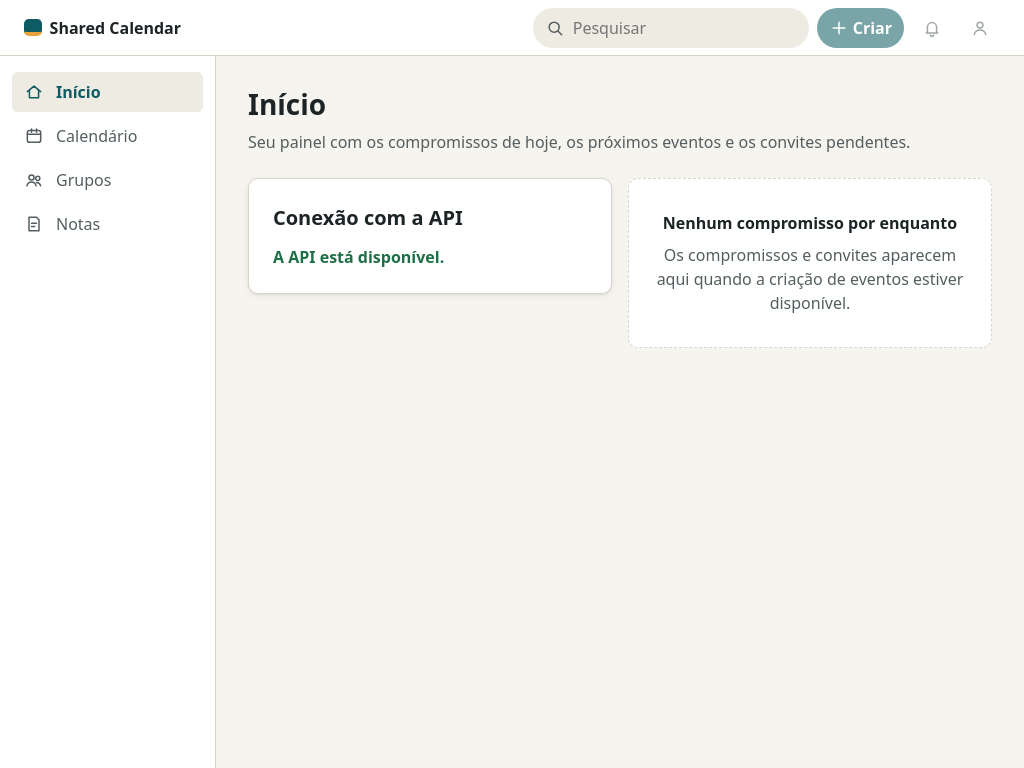
Test case: AppLayout › navega entre as seções pelo menu
Check: the heading "Início" is shown, box [248,85,326,123]
Click the link "Grupos".
click(68, 180)  # box [24,169,111,191]
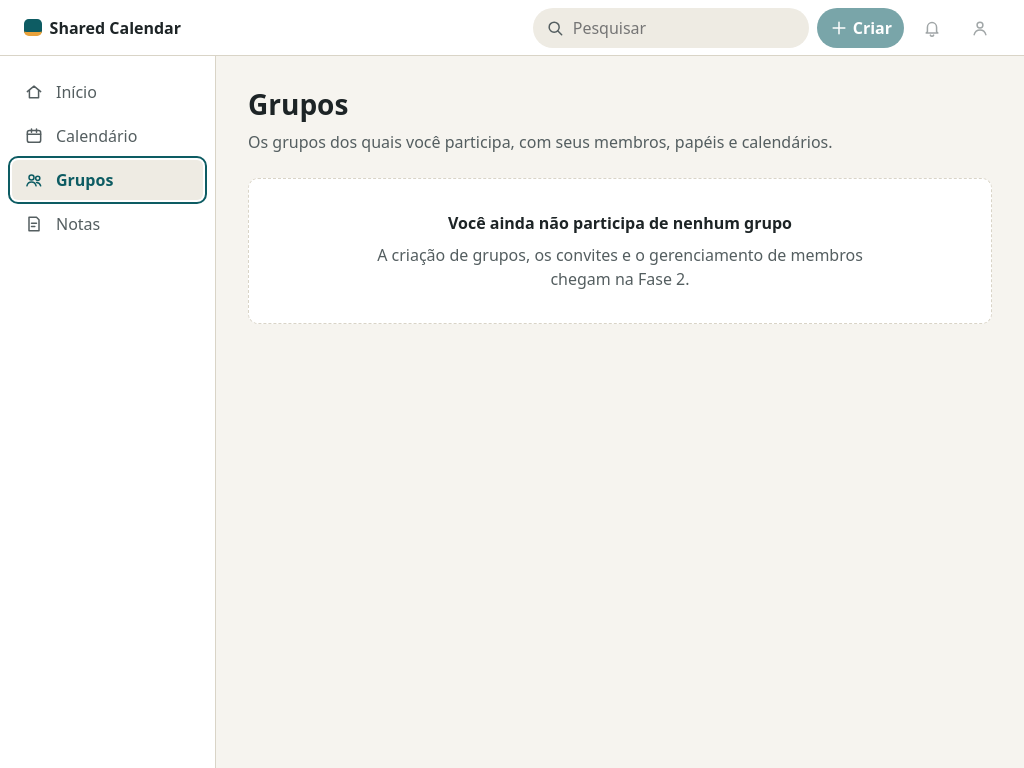
Check: the heading "Grupos" is shown, box [248,85,348,123]
